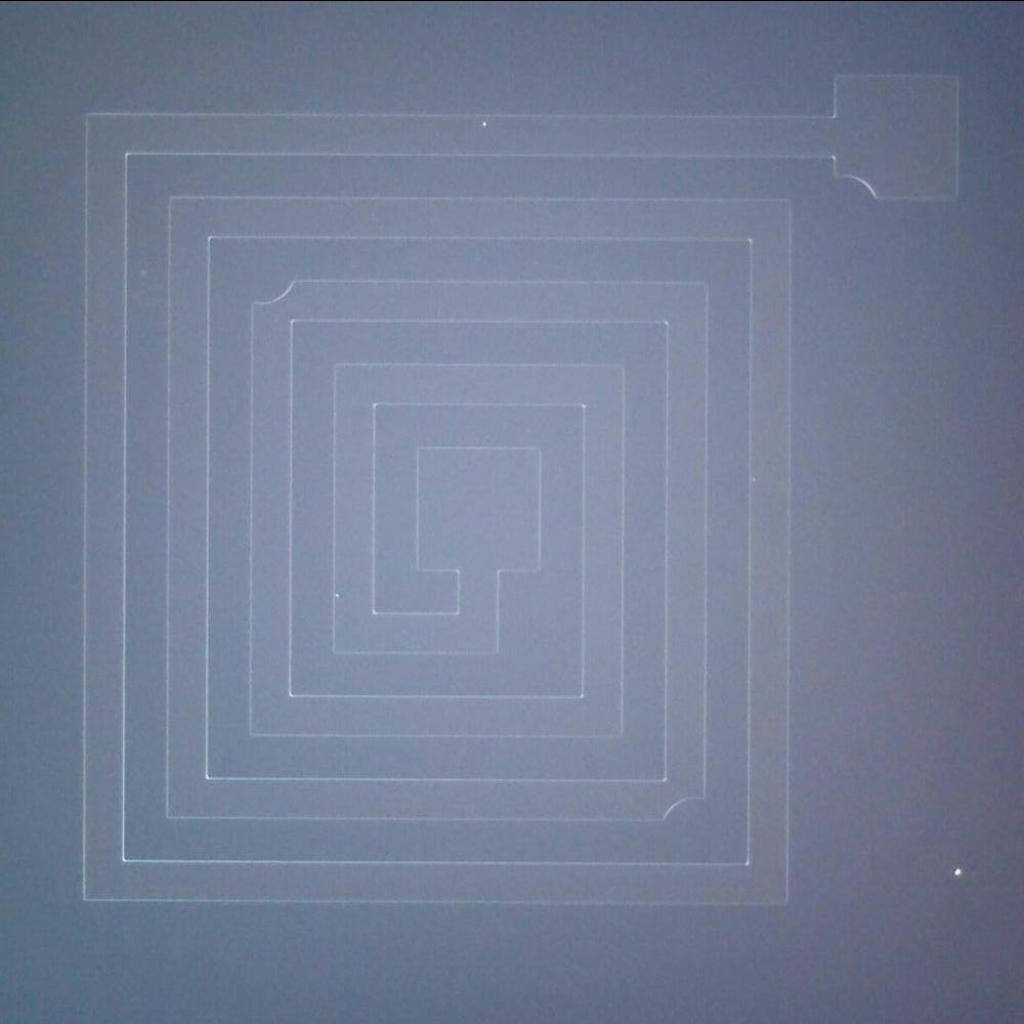curve circuit: (826, 161, 881, 216), (233, 270, 301, 314), (654, 788, 717, 832)
dot: (940, 852, 974, 888), (472, 110, 498, 138)
